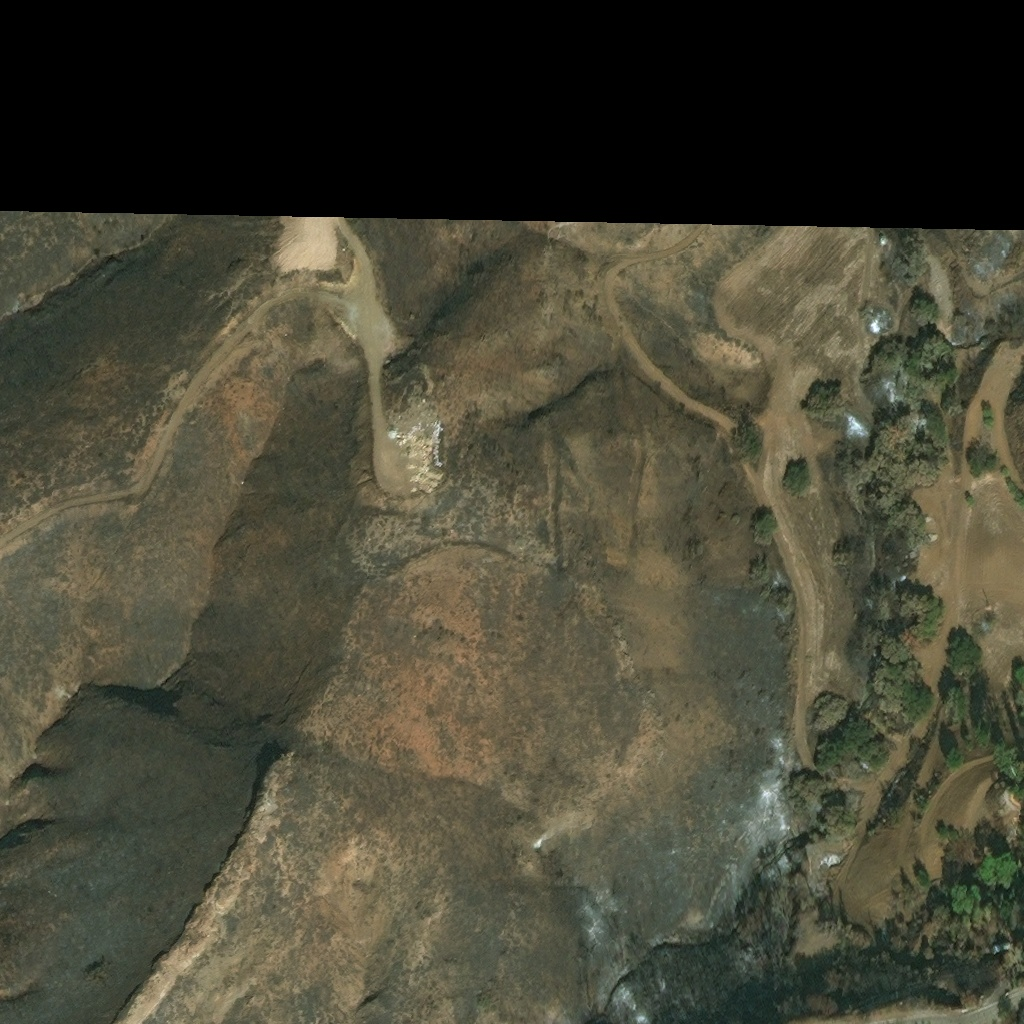1 minor-damage: (878, 239, 888, 248), (993, 939, 1002, 948)
